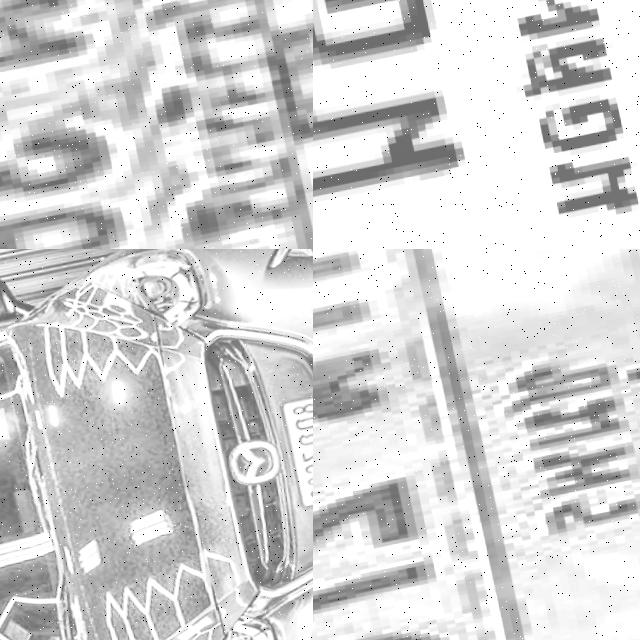license-plate: (313, 249, 640, 640), (313, 0, 640, 249), (0, 0, 313, 249), (263, 388, 313, 519)
